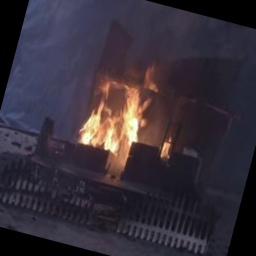fire: (75, 59, 161, 173)
